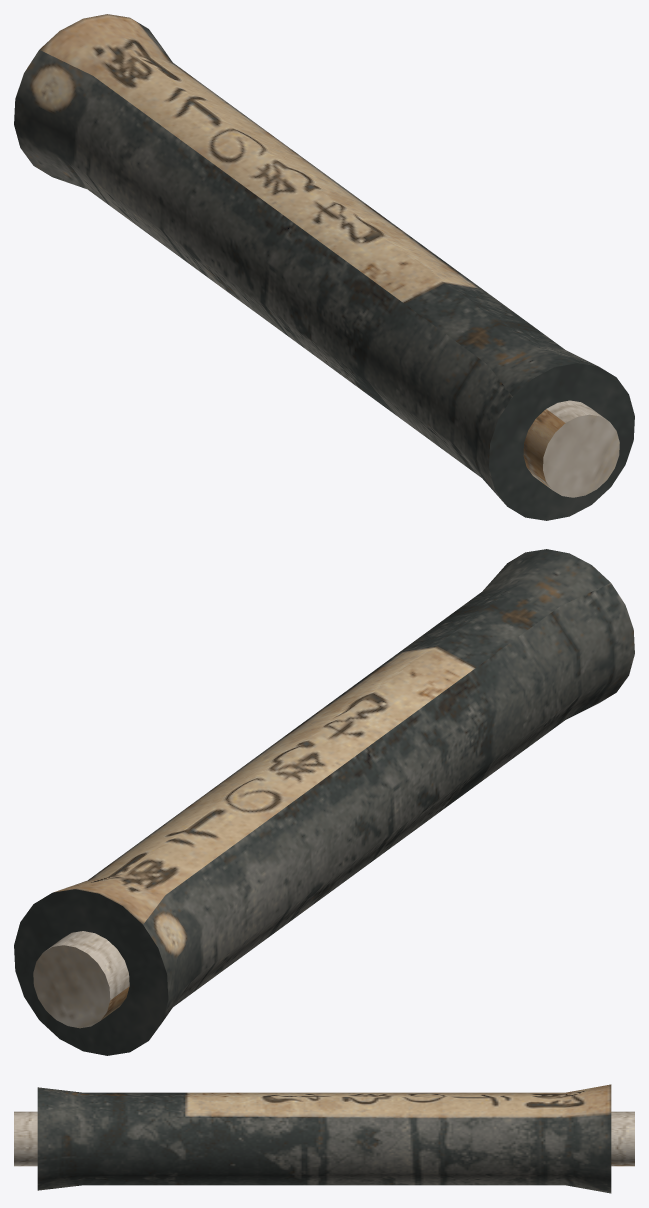
The model's file is scroll5.fbx.
3 views of the same model, one above another, from view 1: azimuth 30°, elevation 25°; view 2: azimuth 150°, elevation 25°; view 3: azimuth 270°, elevation 25° (orthographic). The views are drawn at different scales.
Visible parts, largest first — view 1: scroll5; view 2: scroll5; view 3: scroll5.
Boxes of the visible parts, x1,y1,x2,y2 form: scroll5: (14, 14, 634, 520); scroll5: (14, 549, 634, 1055); scroll5: (14, 1084, 634, 1193).
Bounding box in the file's own units: 3.71 × 3.71 × 21.23.
Materials: 1 (1 with a texture image).
